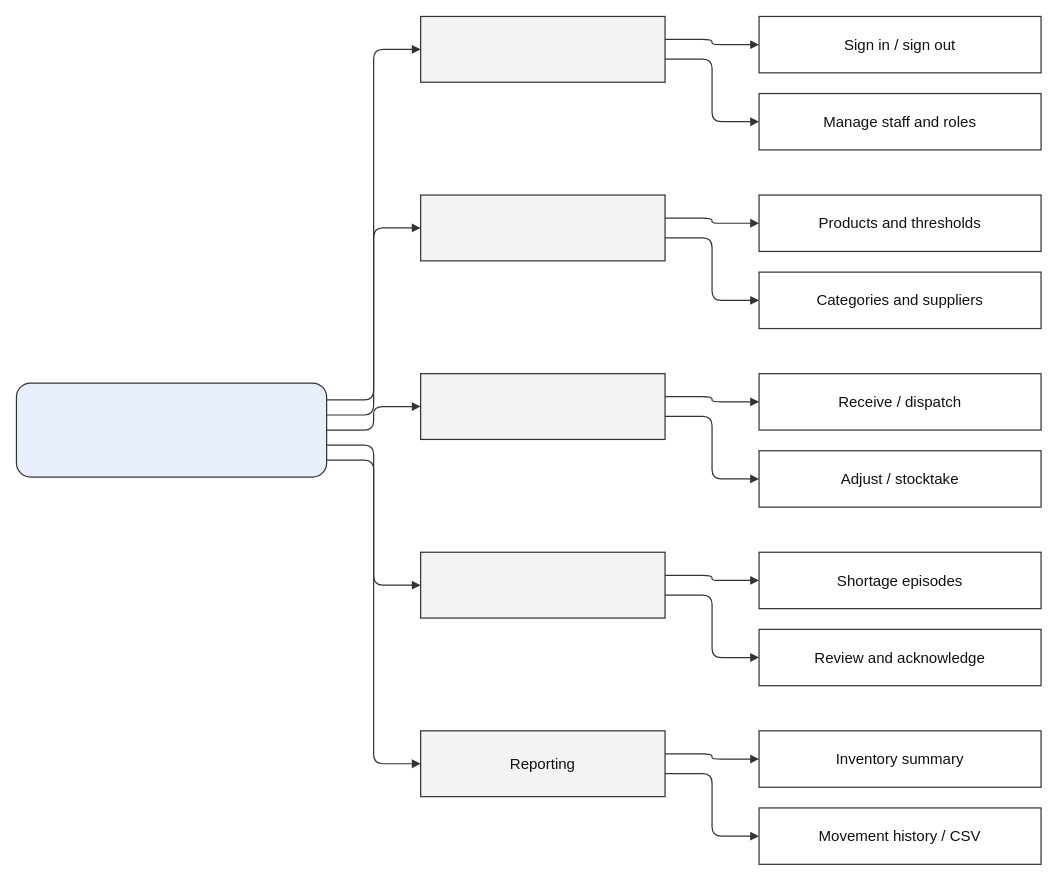
Some shapes in this 1058 by 882 pixel diagram are drawn without their labels. The shapes that lost their labels are listed below. From the top down, each one's centre as x and y in pixels, then its label:
(x=542, y=48): Identity and access
(x=542, y=227): Catalogue
(x=542, y=406): Stock activity
(x=171, y=429): Shelfwise Supermarket inventory management
(x=542, y=584): Stock warnings
